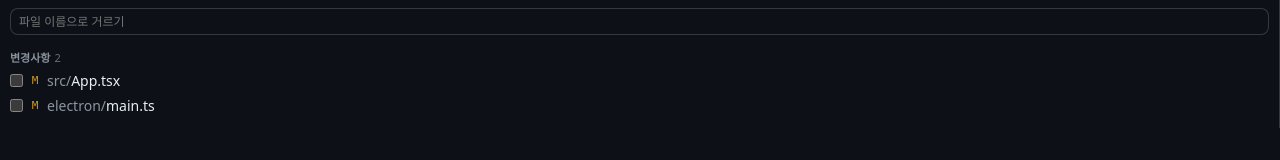
Test: 거르기 › 아무것도 안 남으면 변경이 없는 것과 다르게 말한다
The width and height of the screenshot is (1280, 160).
Type "zzz" into the field labelled "파일 이름으로 거르기".
click(640, 22); type("zzz")  # box [10,8,1269,35]
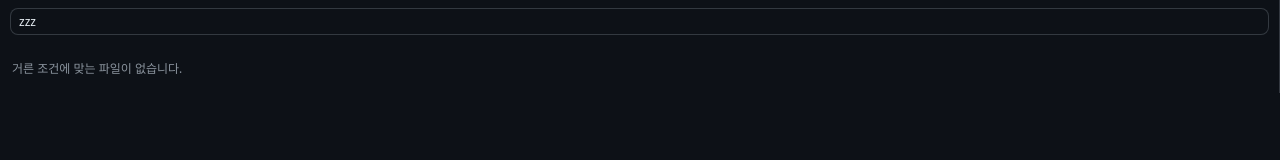
Result: the text "거른 조건에 맞는 파일이 없습니다." is shown at [12,60,182,77]
